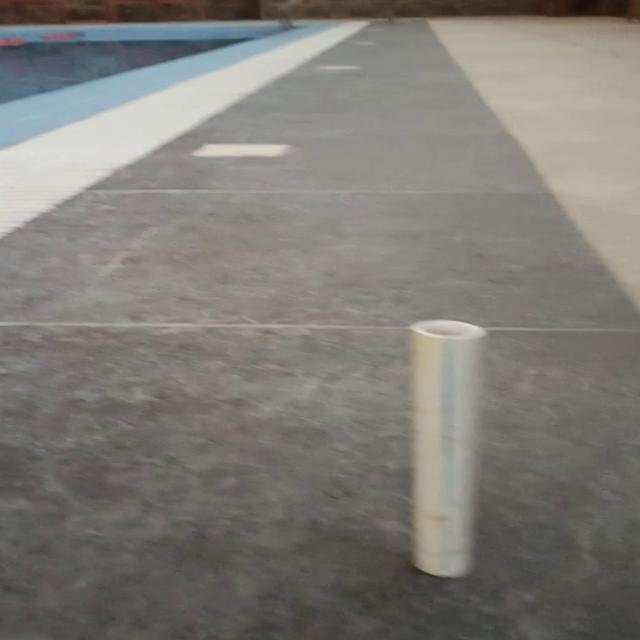Cube: (405, 318, 487, 578)
